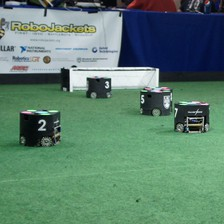goal: (58, 64, 160, 91)
robot: (15, 105, 62, 147), (172, 98, 211, 134), (136, 84, 175, 117), (84, 75, 112, 99)
